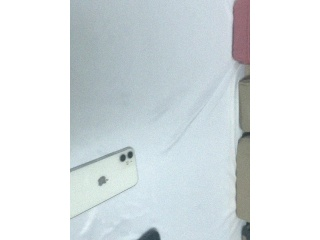phone: (70, 147, 139, 217)
